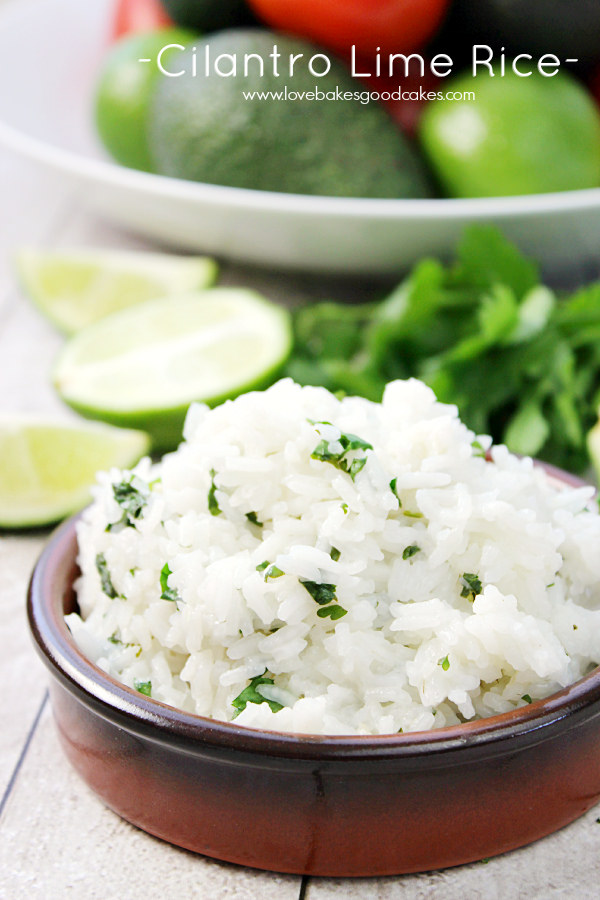plain rice: (158, 425, 573, 703)
